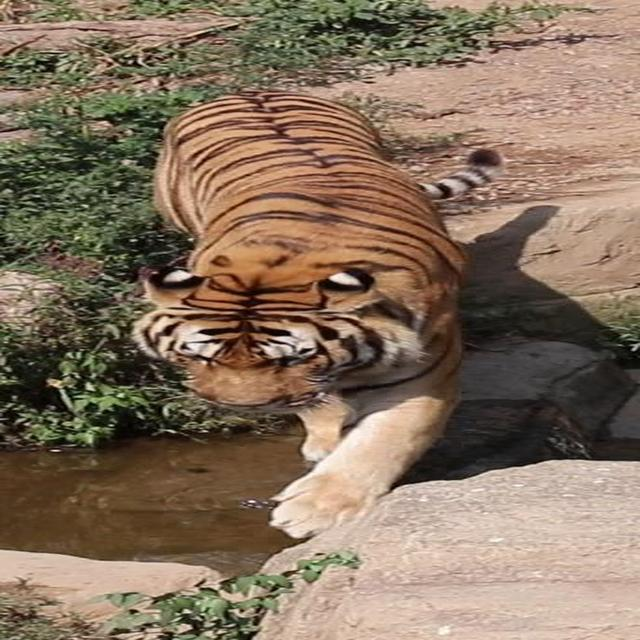tiger: (128, 88, 505, 540)
